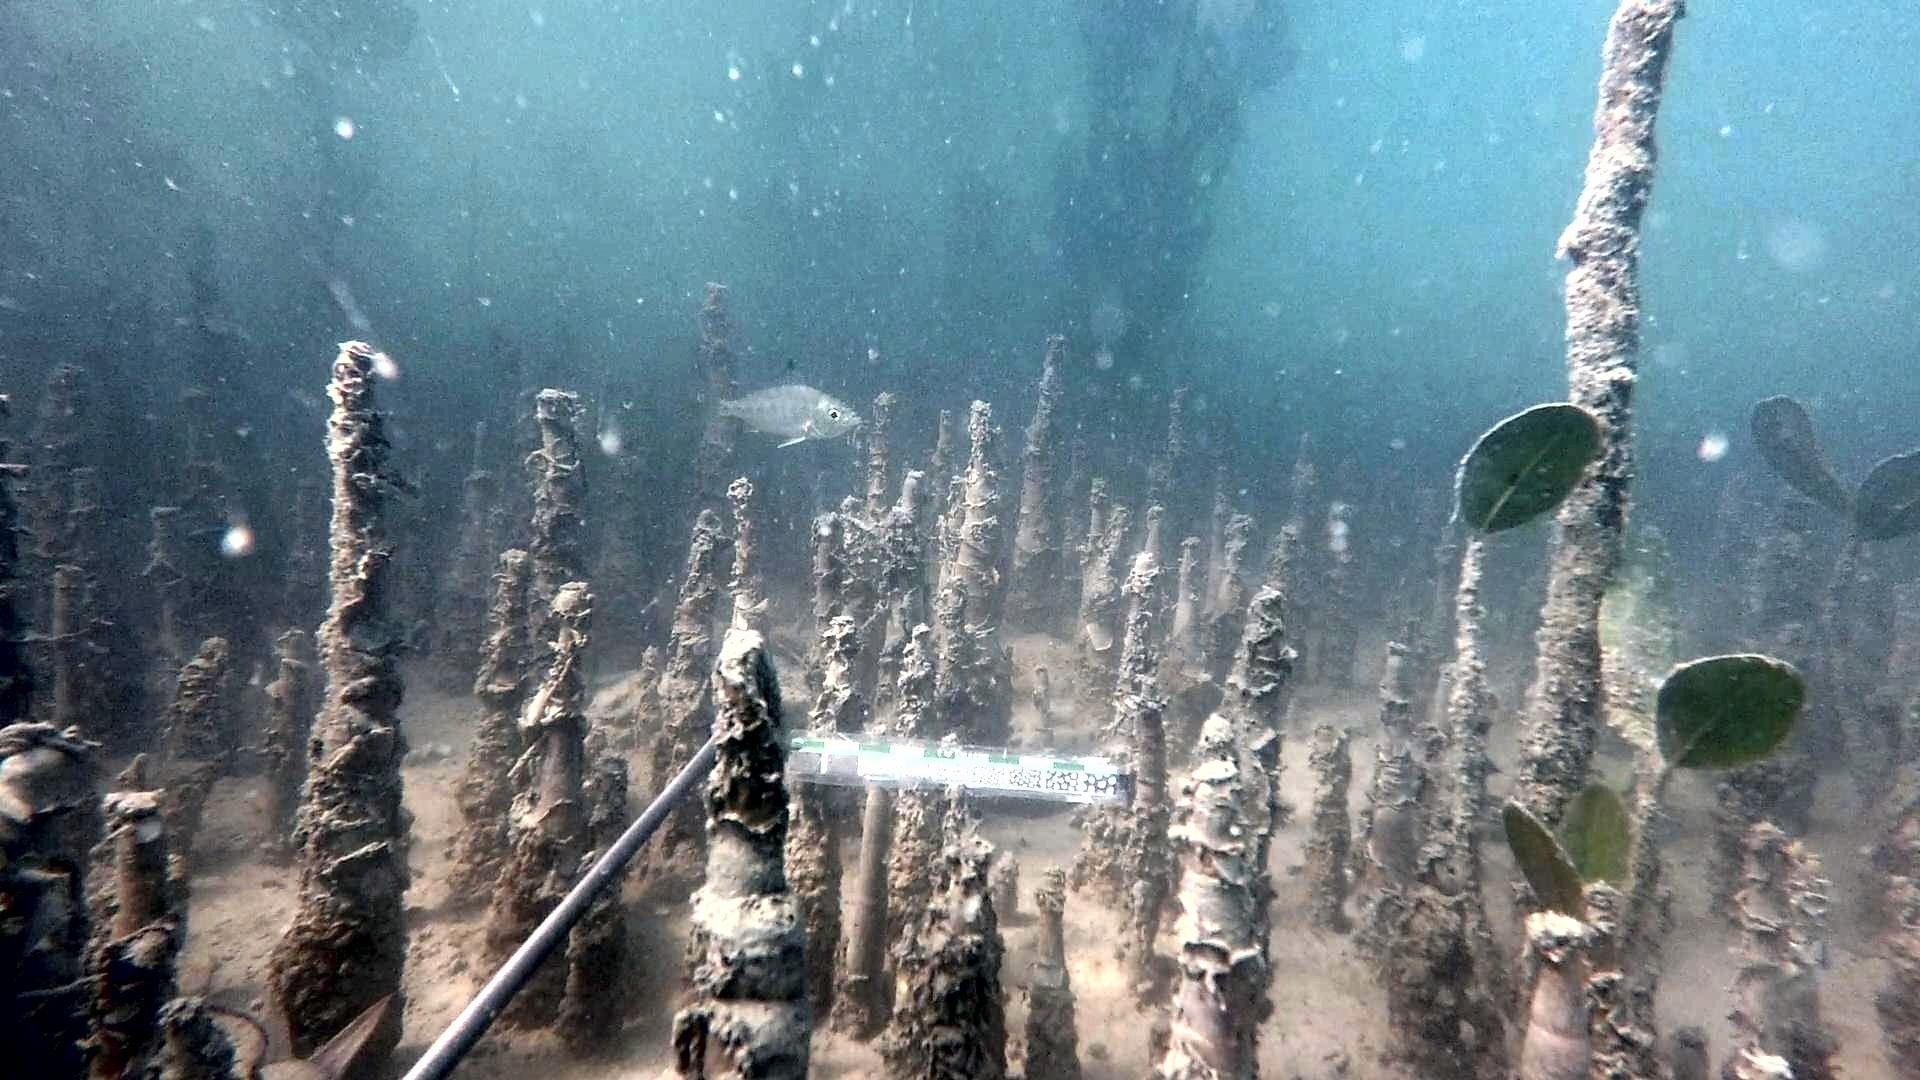gerres: (690, 357, 864, 450)
